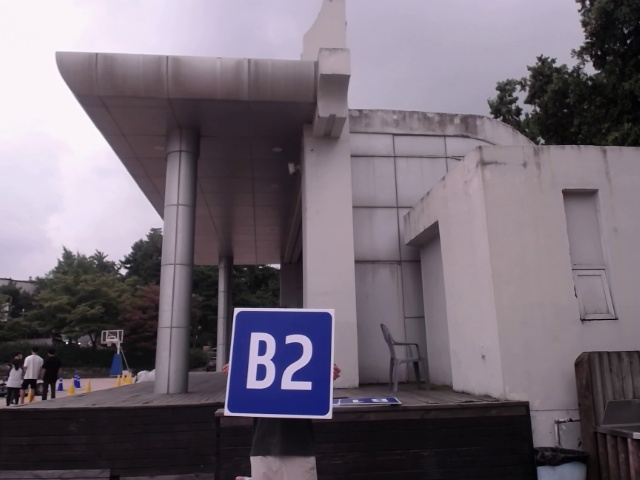delivery_b2: (224, 305, 333, 417)
